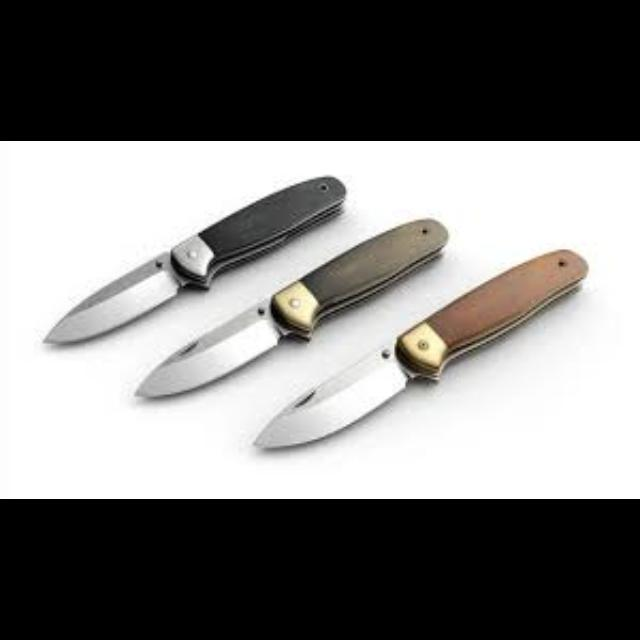knife: (252, 248, 588, 448), (132, 215, 448, 398), (41, 173, 346, 343)
